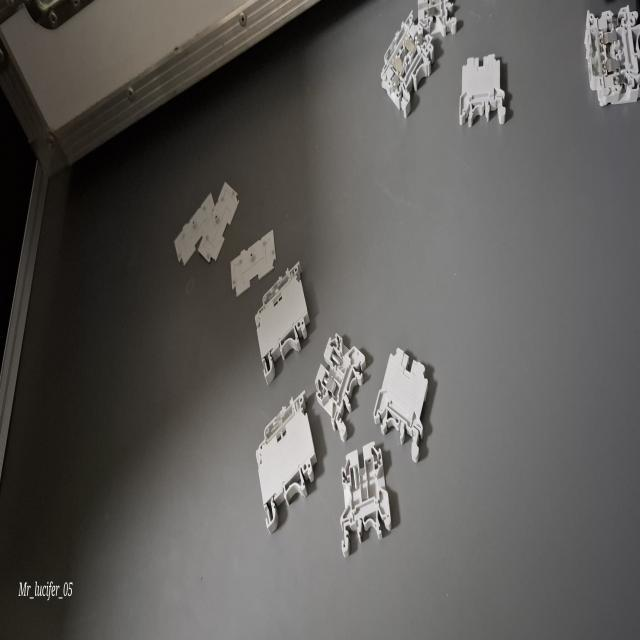Inverted: (374, 314, 442, 459), (458, 51, 509, 130)
Reject: (334, 444, 402, 556), (314, 309, 372, 440)
